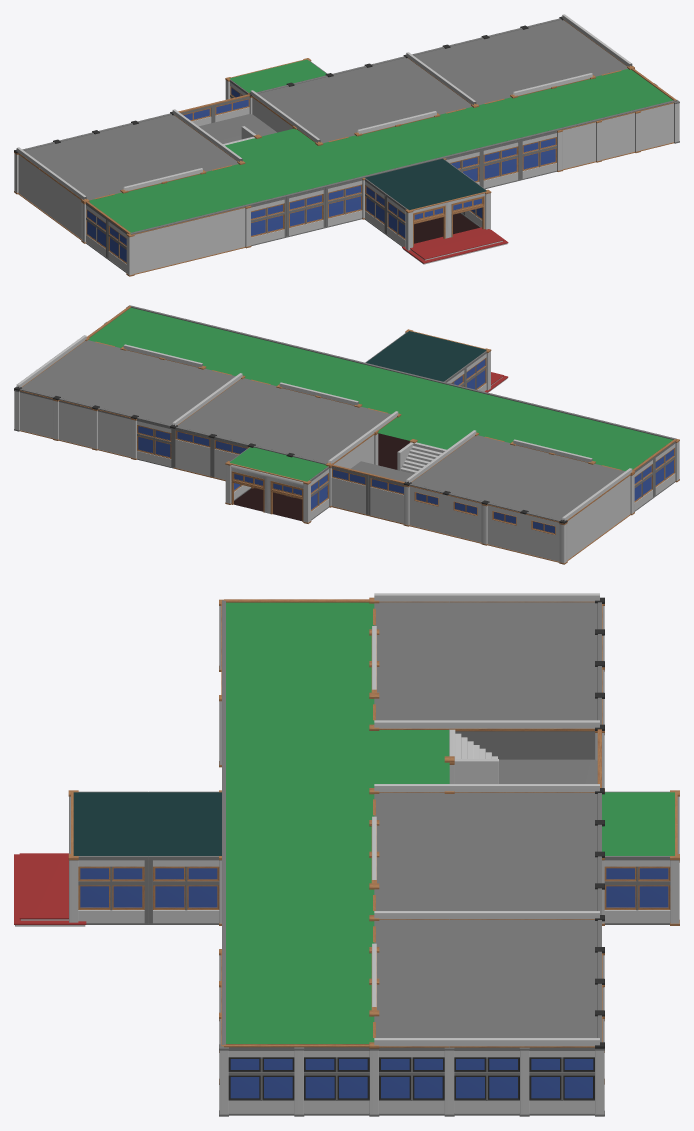
Rendered from SM_floor_mainbuilding.fbx.
The picture shows the model from 3 angles, top to bottom: view 1: azimuth 30°, elevation 25°; view 2: azimuth 150°, elevation 25°; view 3: azimuth 270°, elevation 25°; orthographic projection. The views are drawn at different scales.
Visible parts, largest first — view 1: mainbuilding_floor; view 2: mainbuilding_floor; view 3: mainbuilding_floor.
Boxes of the visible parts, left/top/right/bottom form: mainbuilding_floor: left=14, top=14, right=679, bottom=276; mainbuilding_floor: left=14, top=305, right=679, bottom=564; mainbuilding_floor: left=14, top=593, right=679, bottom=1116.
Size of the model in its own units: 2226 by 175 by 1395.
